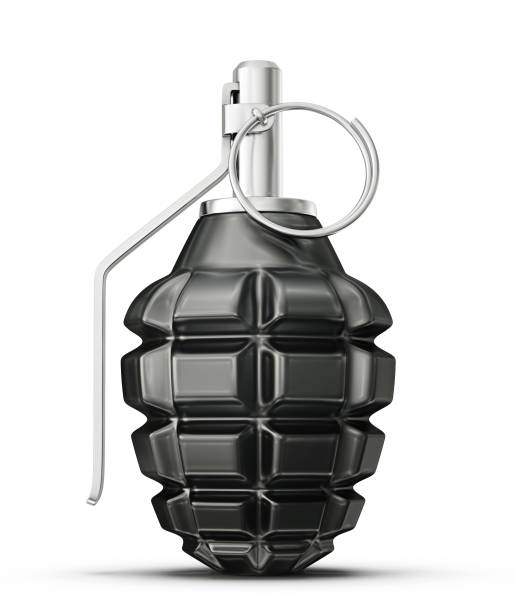e1: (82, 50, 404, 583)
